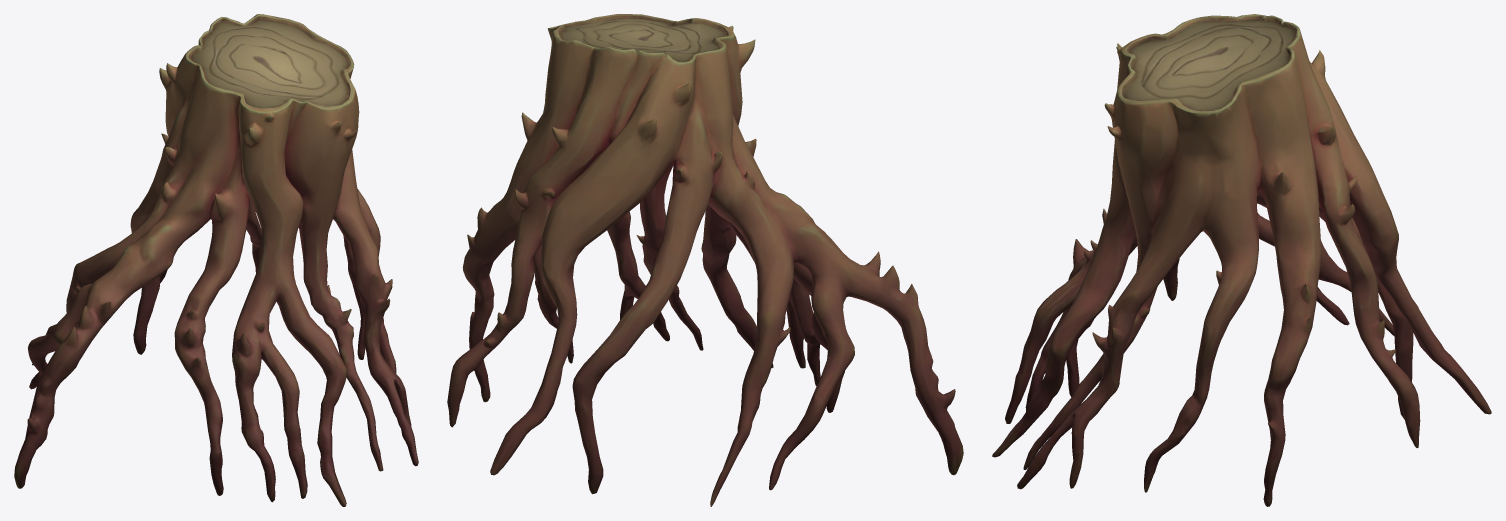
The model's file is bog_mangrove_tree_a.glb.
3 renders of one model, left to right at view 1: azimuth 30°, elevation 25°; view 2: azimuth 150°, elevation 25°; view 3: azimuth 270°, elevation 25°, orthographic. The views are drawn at different scales.
Visible parts, largest first — view 1: SM_XBOG_STL_Mangrove_01A; view 2: SM_XBOG_STL_Mangrove_01A; view 3: SM_XBOG_STL_Mangrove_01A.
Boxes of the visible parts, x1,y1,x2,y2 form: SM_XBOG_STL_Mangrove_01A: [14, 14, 418, 506]; SM_XBOG_STL_Mangrove_01A: [447, 14, 963, 506]; SM_XBOG_STL_Mangrove_01A: [992, 14, 1491, 506].
Bounding box in the file's own units: 23.79 × 21.87 × 22.69.
1 material, 1 textured.
